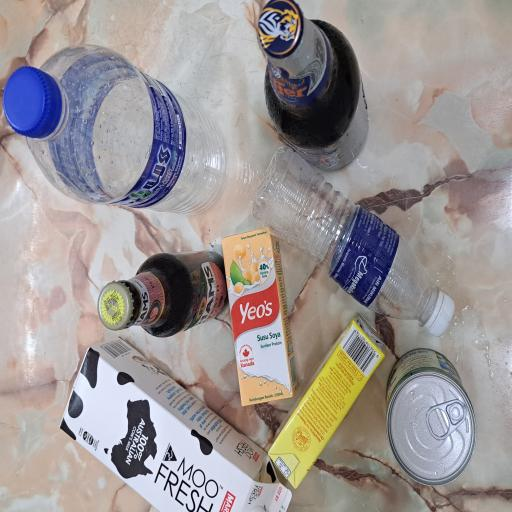drink carton: (0, 77, 129, 392), (19, 359, 146, 512), (79, 290, 215, 392)
glass bottle: (256, 338, 384, 500), (129, 129, 202, 305)
plastic bottle: (225, 32, 355, 304), (134, 331, 276, 512)
plastic bottle cap: (282, 1, 334, 83)
